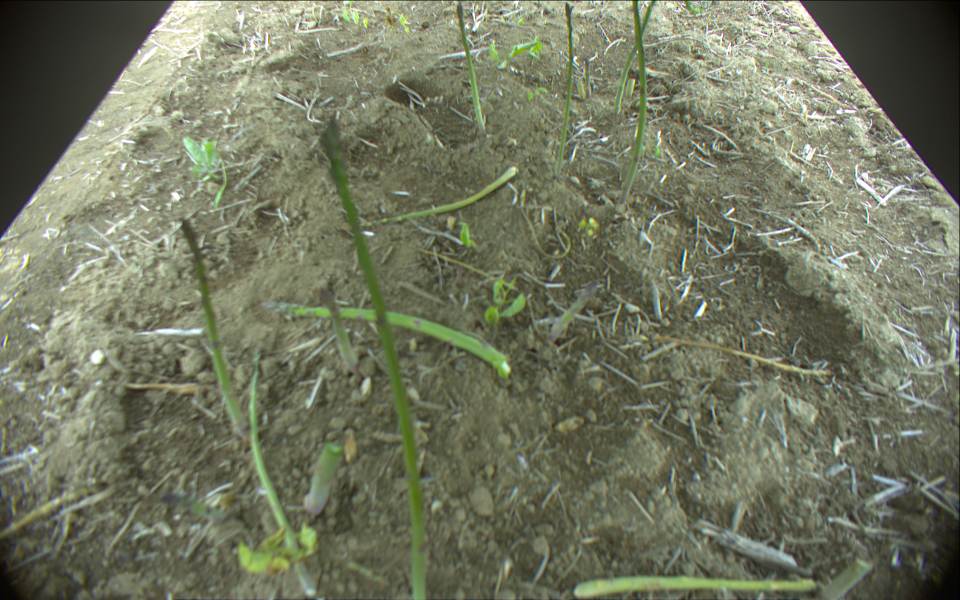aspa: (318, 118, 425, 600), (271, 300, 512, 374), (247, 368, 314, 596), (180, 219, 246, 438), (344, 164, 517, 232), (572, 574, 817, 596), (452, 2, 488, 132), (615, 1, 656, 113), (627, 1, 649, 206), (555, 3, 579, 177), (317, 287, 357, 370), (581, 57, 591, 95)
